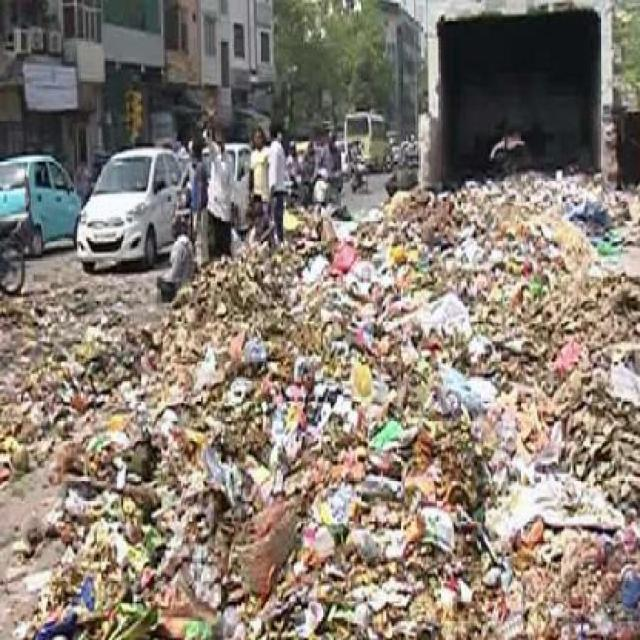garbage: (52, 312, 633, 606), (326, 174, 637, 435)
